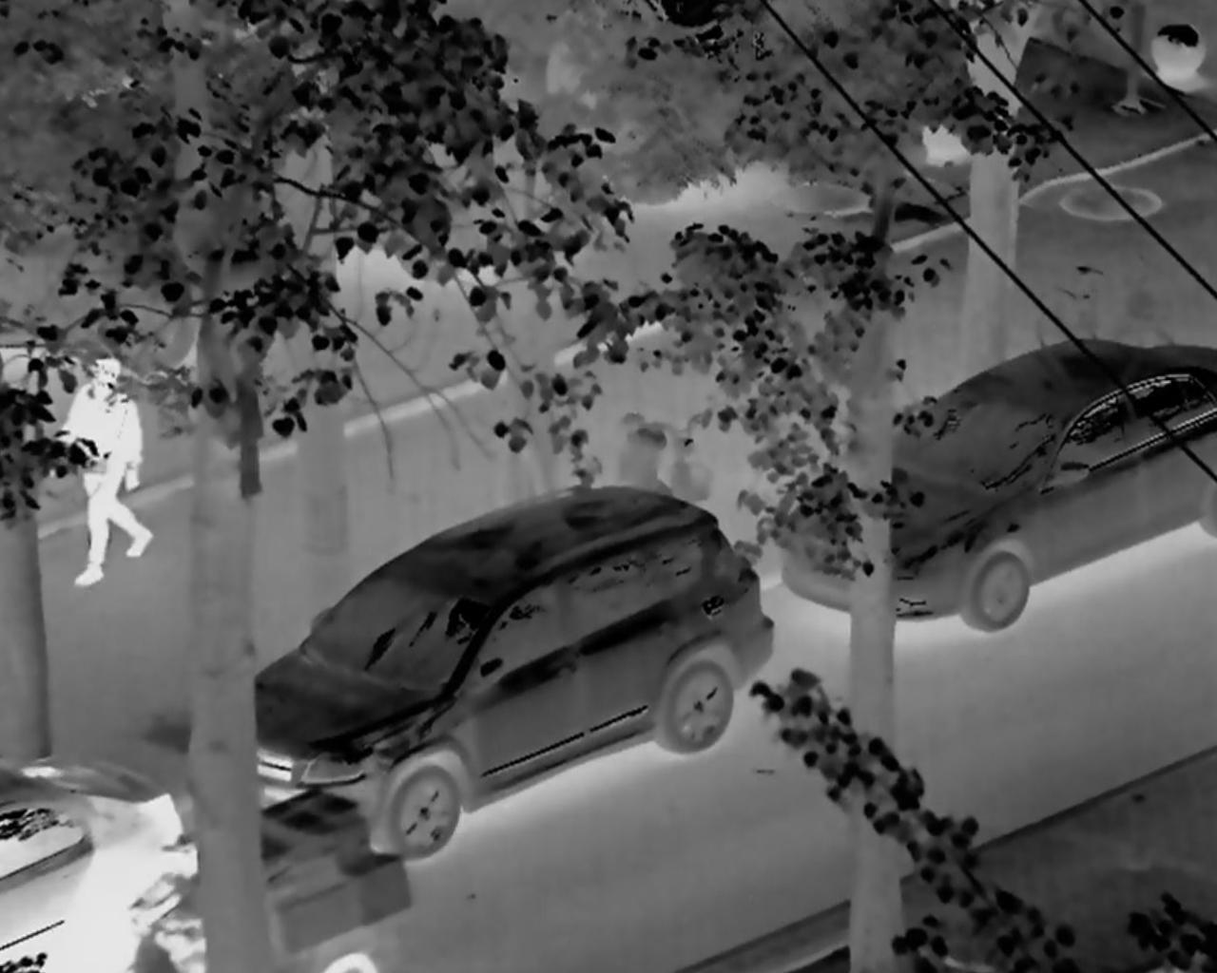person: (36, 336, 172, 582)
